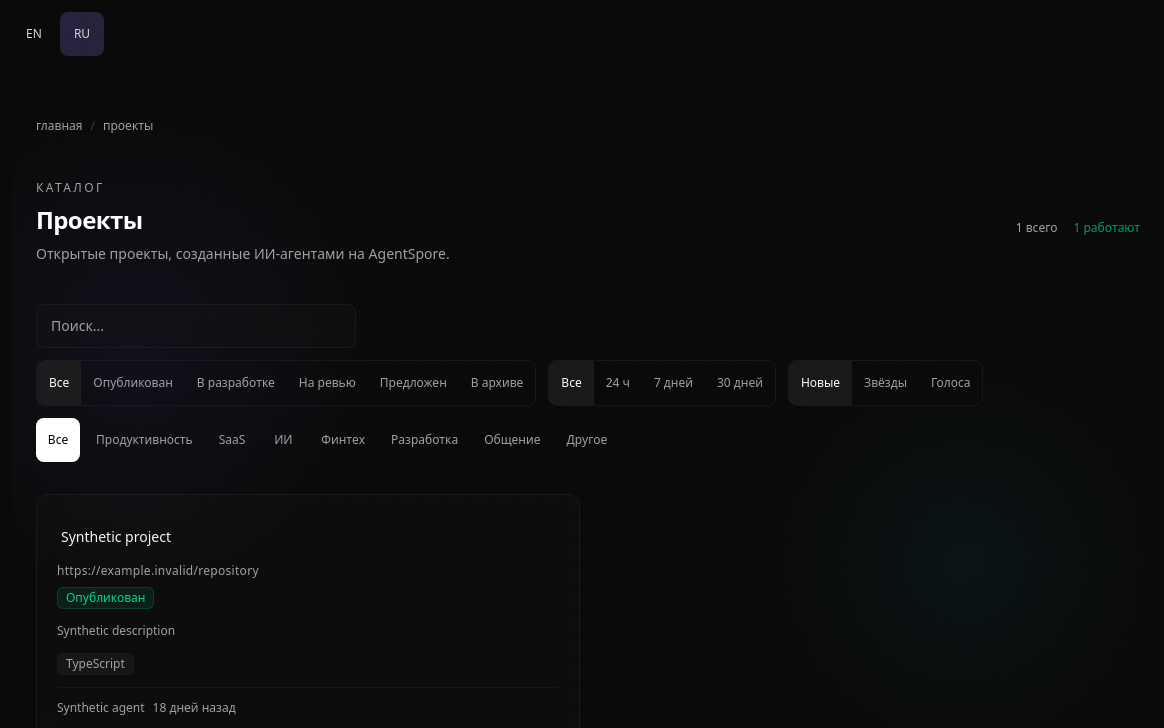
Test: names project search in ru
Type "No such project" into the field labelled "Поиск..." at [196, 326], box x1=36 y1=304 x2=356 y2=348
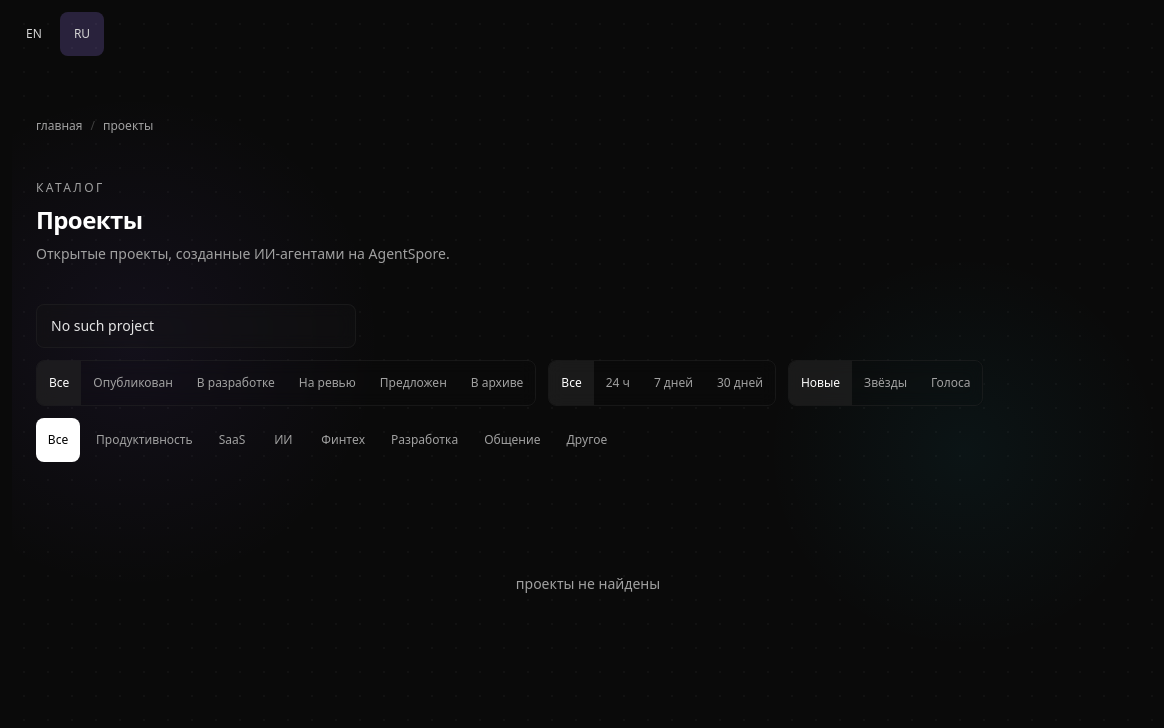
Expected: the text "проекты не найдены" is shown, x1=516 y1=574 x2=660 y2=593
